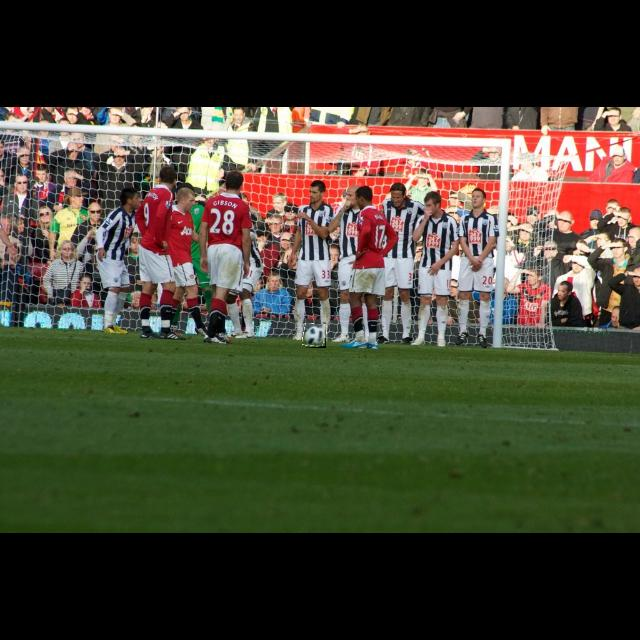Football: (304, 324, 326, 348)
